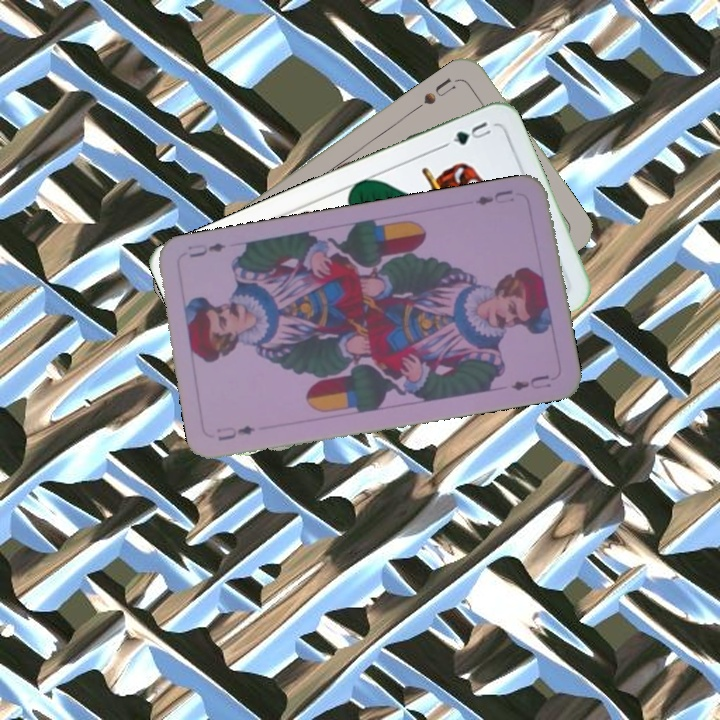EU: (471, 186, 517, 208), (212, 421, 258, 443)
GU: (448, 117, 494, 148)
SU: (419, 73, 458, 108)
